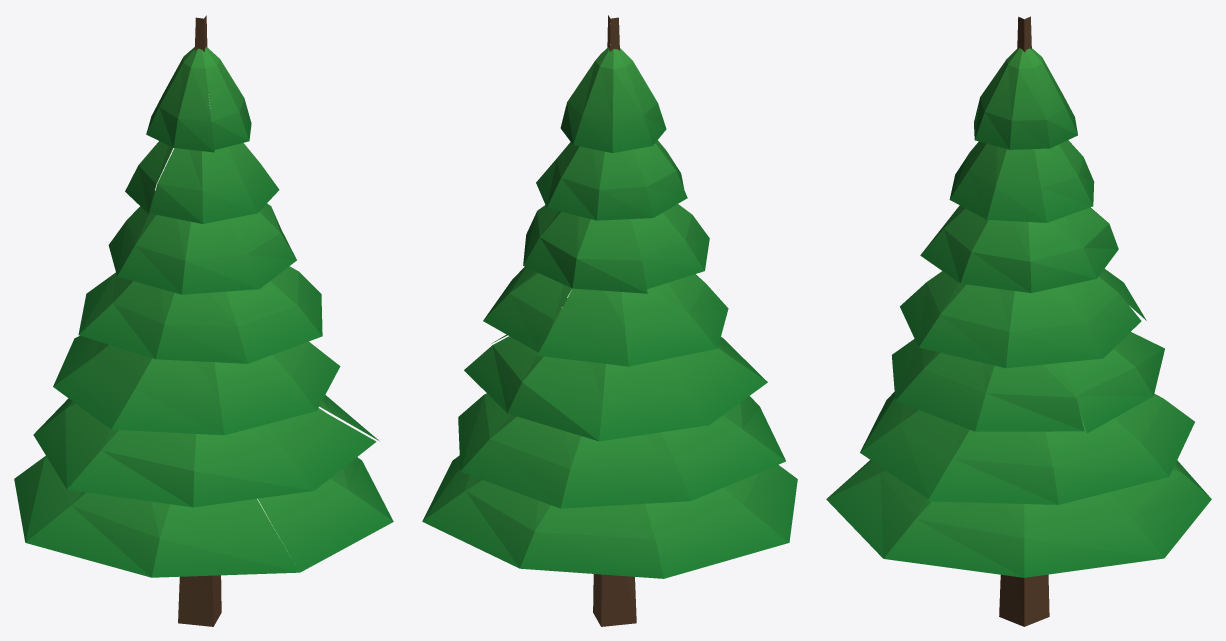
File: tree_pine.glb
3 renders of one model, left to right at view 1: azimuth 30°, elevation 25°; view 2: azimuth 150°, elevation 25°; view 3: azimuth 270°, elevation 25°, orthographic.
Visible parts, largest first — view 1: tree_pine_leaf, tree_pine_bark; view 2: tree_pine_leaf, tree_pine_bark; view 3: tree_pine_leaf, tree_pine_bark.
Part boxes in pixels (<box>): tree_pine_leaf: <box>14,47,393,577</box>; tree_pine_bark: <box>178,15,221,626</box>; tree_pine_leaf: <box>422,47,797,578</box>; tree_pine_bark: <box>593,15,636,626</box>; tree_pine_leaf: <box>826,48,1211,577</box>; tree_pine_bark: <box>999,16,1049,626</box>.
Size of the model in its own units: 3.64 by 6.2 by 3.61.
